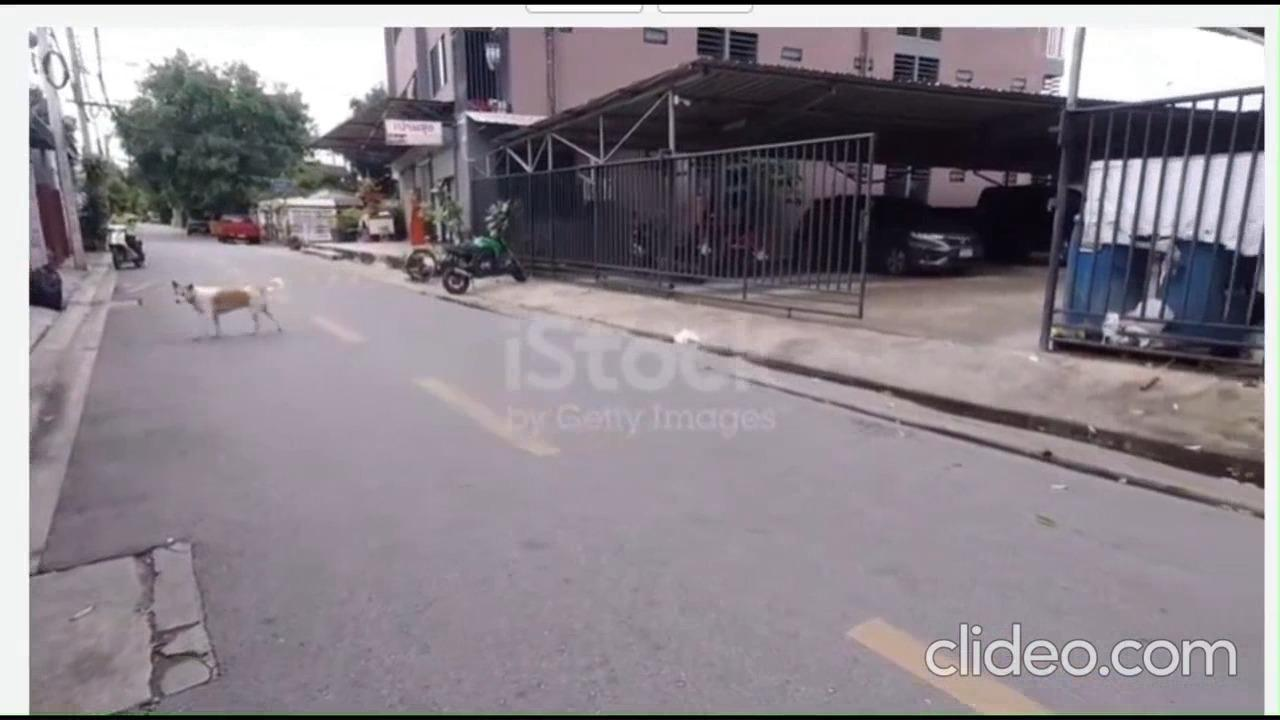dog: (167, 268, 287, 343)
